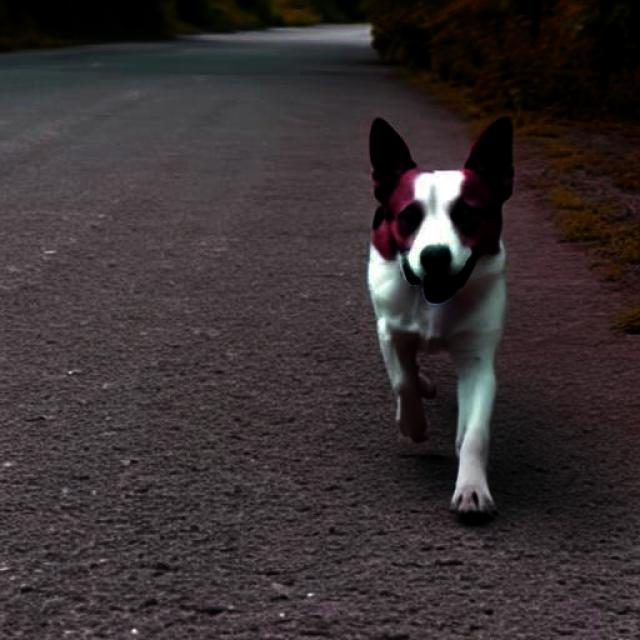Dog: (368, 116, 513, 522)
